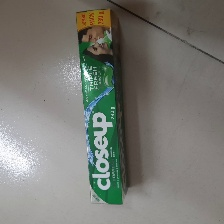CloseUp Xanh: (74, 7, 130, 206)
